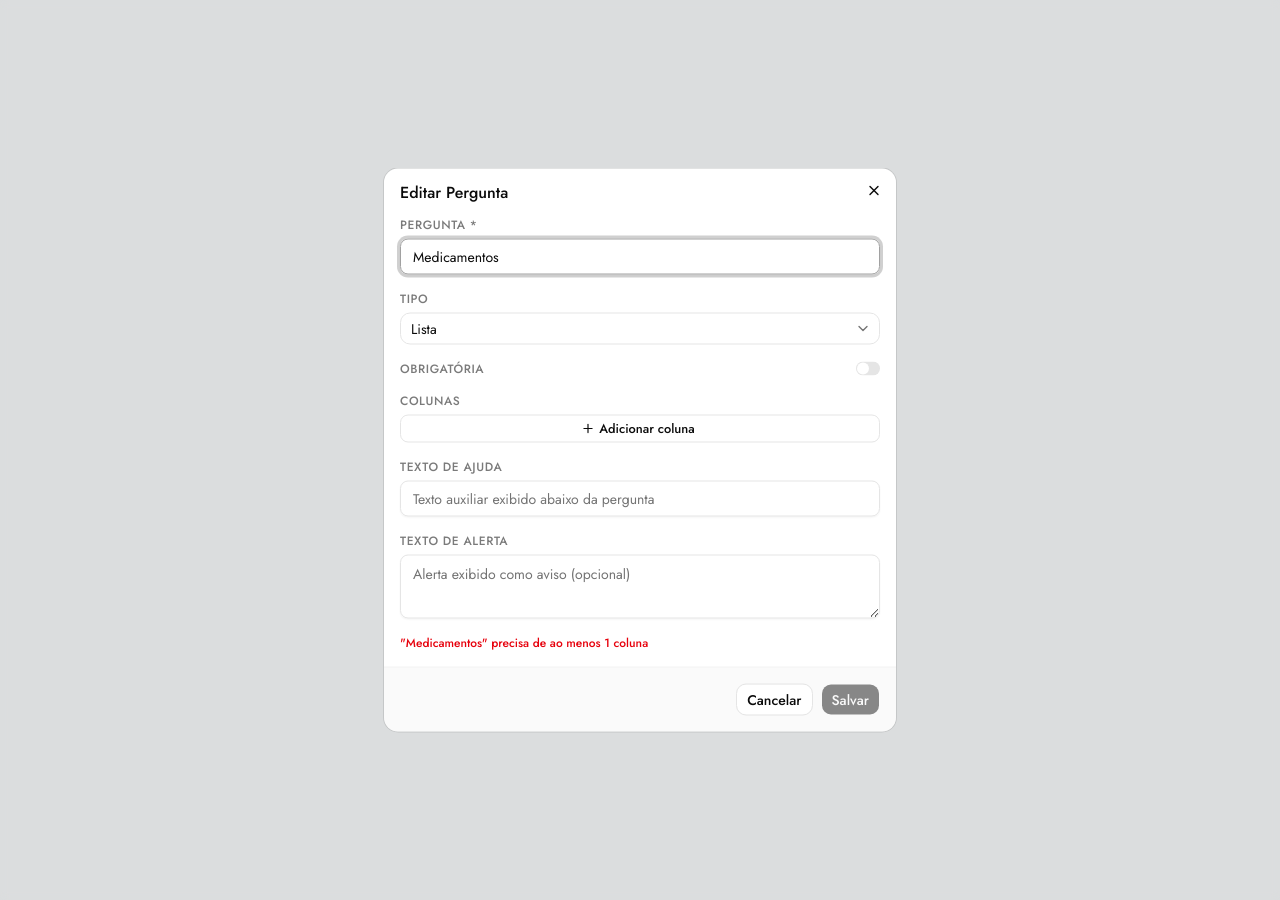
Test: QuestionEditorDialog › says why Salvar is disabled (previously the button stayed disabled with no reason shown)
The width and height of the screenshot is (1280, 900).
Check: the button "Salvar" is disabled, box [820,684,880,716]
Check: the message reads "\"Medicamentos\" precisa de ao menos 1 coluna", box [400,634,648,652]
Click the button "Adicionar coluna". click: (640, 428)
box: [400,414,880,442]
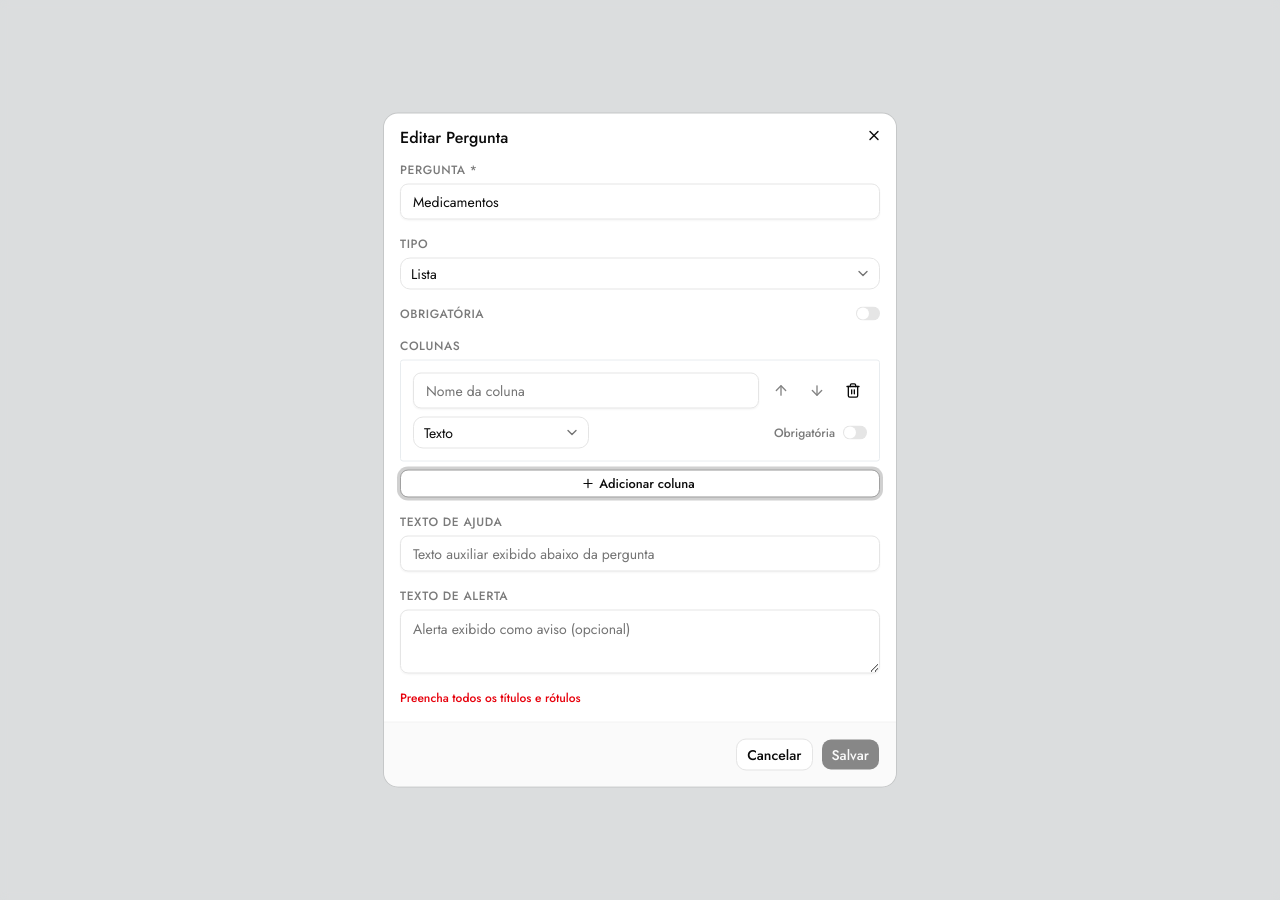
Type "Nome" into the field labelled "Nome da coluna". click: (586, 390)
box: [413,372,759,408]
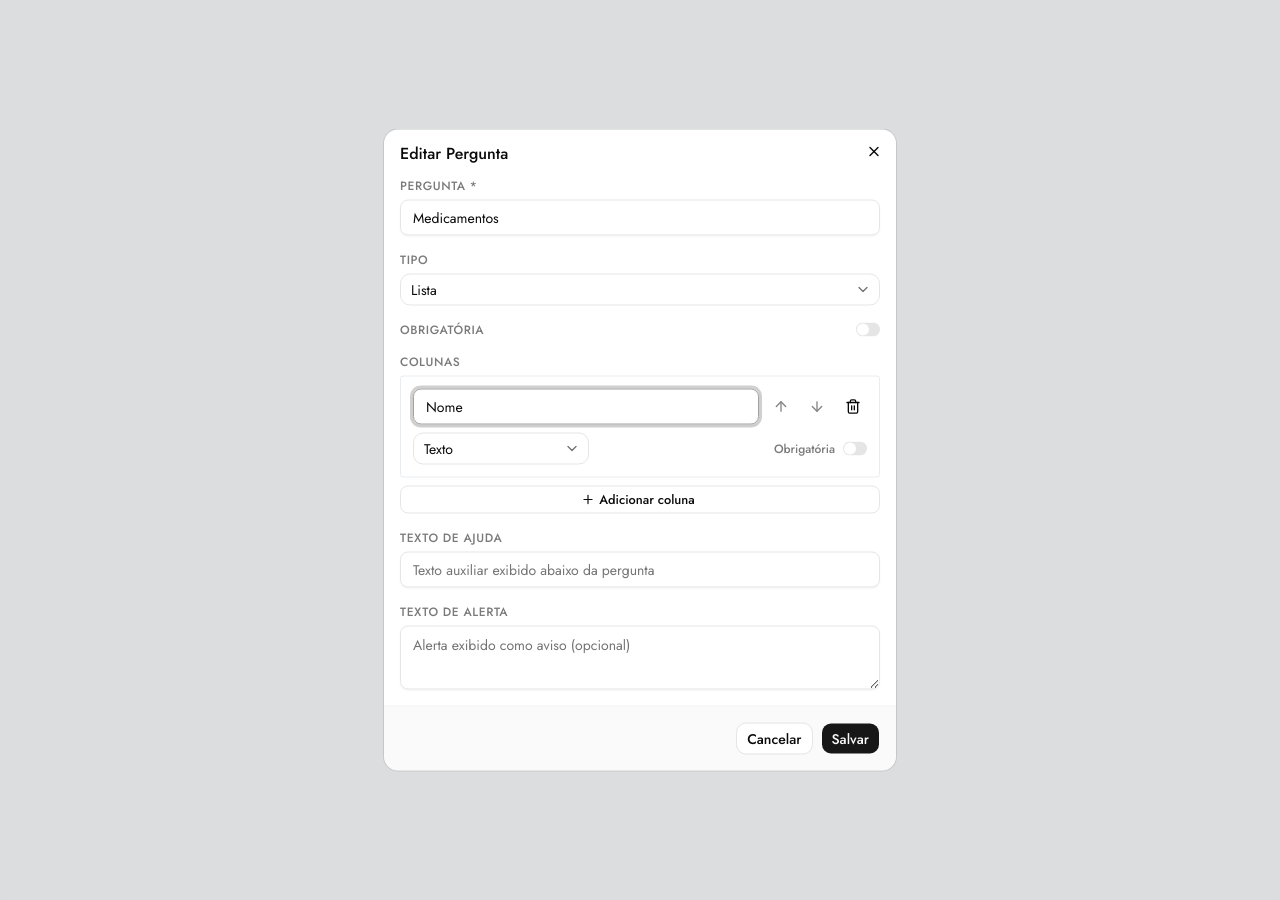
Check: the button "Salvar" is enabled, box [820,722,880,754]
Check: the message "Preencha todos os títulos e rótulos" is gone
